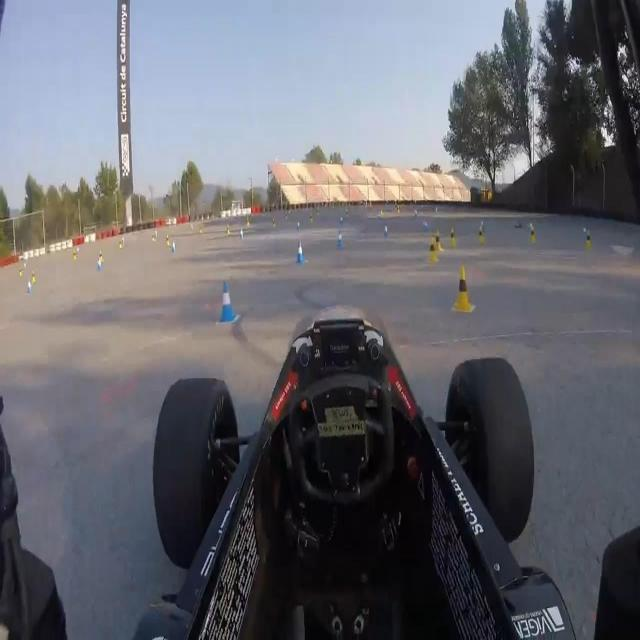blue_cone: (218, 277, 238, 327), (295, 240, 307, 268), (336, 228, 344, 250), (295, 218, 301, 234), (383, 223, 389, 239), (480, 220, 486, 234), (96, 258, 102, 272), (423, 219, 429, 232), (27, 280, 32, 295), (338, 215, 344, 227), (171, 241, 177, 253), (240, 228, 245, 241), (584, 226, 588, 239)
yellow_cone: (452, 264, 473, 312), (428, 236, 438, 264), (448, 225, 457, 248), (434, 228, 443, 250), (477, 227, 484, 246), (31, 269, 37, 285), (586, 230, 591, 248), (530, 228, 536, 243), (99, 250, 106, 262), (72, 249, 78, 262), (165, 235, 171, 247), (198, 225, 204, 236), (246, 217, 251, 229), (397, 204, 401, 217), (272, 218, 276, 230), (118, 241, 123, 250), (227, 225, 231, 236), (19, 268, 22, 278), (381, 208, 384, 218), (152, 235, 156, 242), (310, 213, 313, 222)
